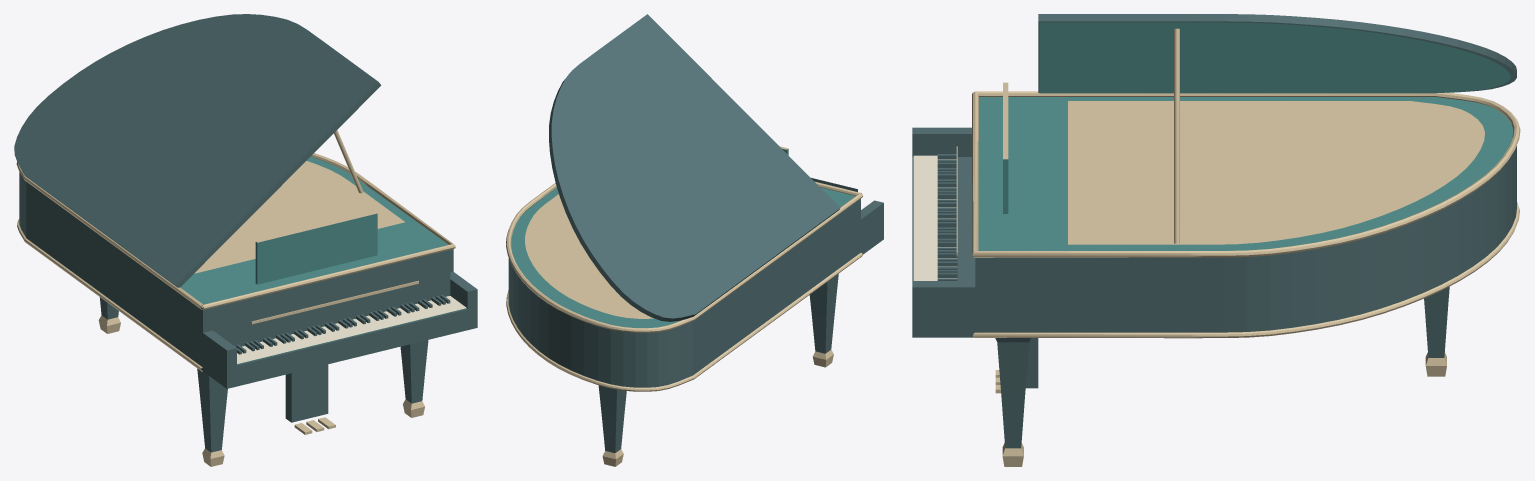
The model's file is KC32__AD_Int_Piano_Grand.glb.
The picture shows the model from 3 angles, left to right: view 1: azimuth 30°, elevation 25°; view 2: azimuth 150°, elevation 25°; view 3: azimuth 270°, elevation 25°; orthographic projection. The views are drawn at different scales.
Visible parts, largest first — view 1: KC32_CORPS__AD_Int_Piano_Grand, KC32_BRONZE__AD_Int_Piano_Grand, KC32_LUMIERE__AD_Int_Piano_Grand; view 2: KC32_CORPS__AD_Int_Piano_Grand, KC32_BRONZE__AD_Int_Piano_Grand; view 3: KC32_CORPS__AD_Int_Piano_Grand, KC32_BRONZE__AD_Int_Piano_Grand, KC32_LUMIERE__AD_Int_Piano_Grand.
Boxes of the visible parts, x1=… form: KC32_CORPS__AD_Int_Piano_Grand: x1=14, y1=14, x2=477, y2=452; KC32_BRONZE__AD_Int_Piano_Grand: x1=16, y1=130, x2=455, y2=466; KC32_LUMIERE__AD_Int_Piano_Grand: x1=237, y1=296, x2=466, y2=363; KC32_CORPS__AD_Int_Piano_Grand: x1=508, y1=14, x2=883, y2=452; KC32_BRONZE__AD_Int_Piano_Grand: x1=506, y1=146, x2=862, y2=466; KC32_CORPS__AD_Int_Piano_Grand: x1=912, y1=14, x2=1516, y2=448; KC32_BRONZE__AD_Int_Piano_Grand: x1=956, y1=28, x2=1520, y2=466; KC32_LUMIERE__AD_Int_Piano_Grand: x1=913, y1=155, x2=957, y2=280.
Size of the model in its own units: 1.53 by 1.9 by 2.41.
